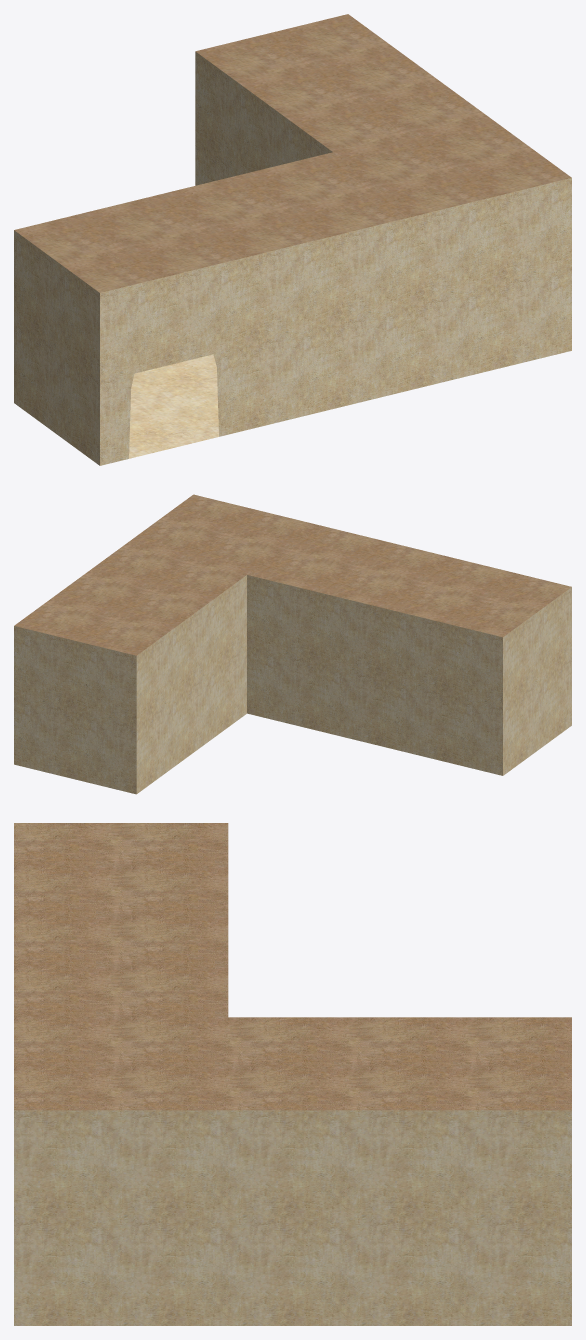
The model's file is thm_tato_block_bldg_64x32_s02_r2_foyerb_mesh_foyerb.fbx.
3 renders of one model, top to bottom at view 1: azimuth 30°, elevation 25°; view 2: azimuth 150°, elevation 25°; view 3: azimuth 270°, elevation 25°, orthographic. The views are drawn at different scales.
Visible parts, largest first — view 1: mesh_node; view 2: mesh_node; view 3: mesh_node.
Part boxes in pixels (<box>): mesh_node: <box>14,14,571,465</box>; mesh_node: <box>14,494,571,794</box>; mesh_node: <box>14,823,571,1325</box>.
Bounding box in the file's own units: 11.42 × 4 × 9.38.
